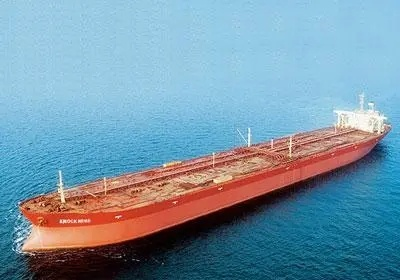Cargoship: (9, 90, 395, 252)
